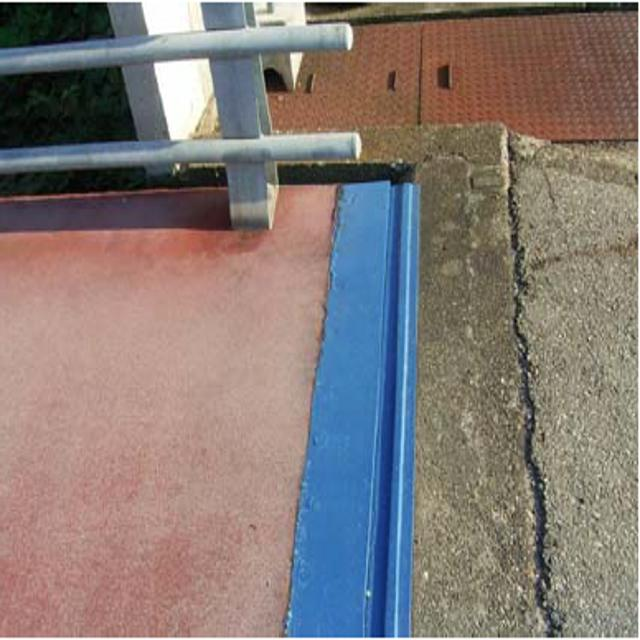crack: (502, 134, 568, 640)
